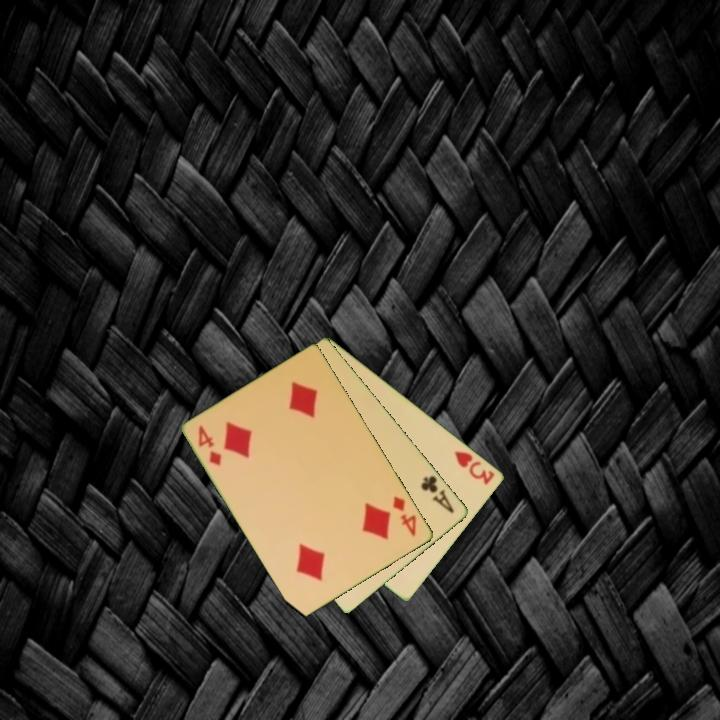3h: (451, 447, 498, 488)
4d: (389, 493, 420, 539), (195, 422, 225, 469)
Ac: (417, 472, 457, 516)
